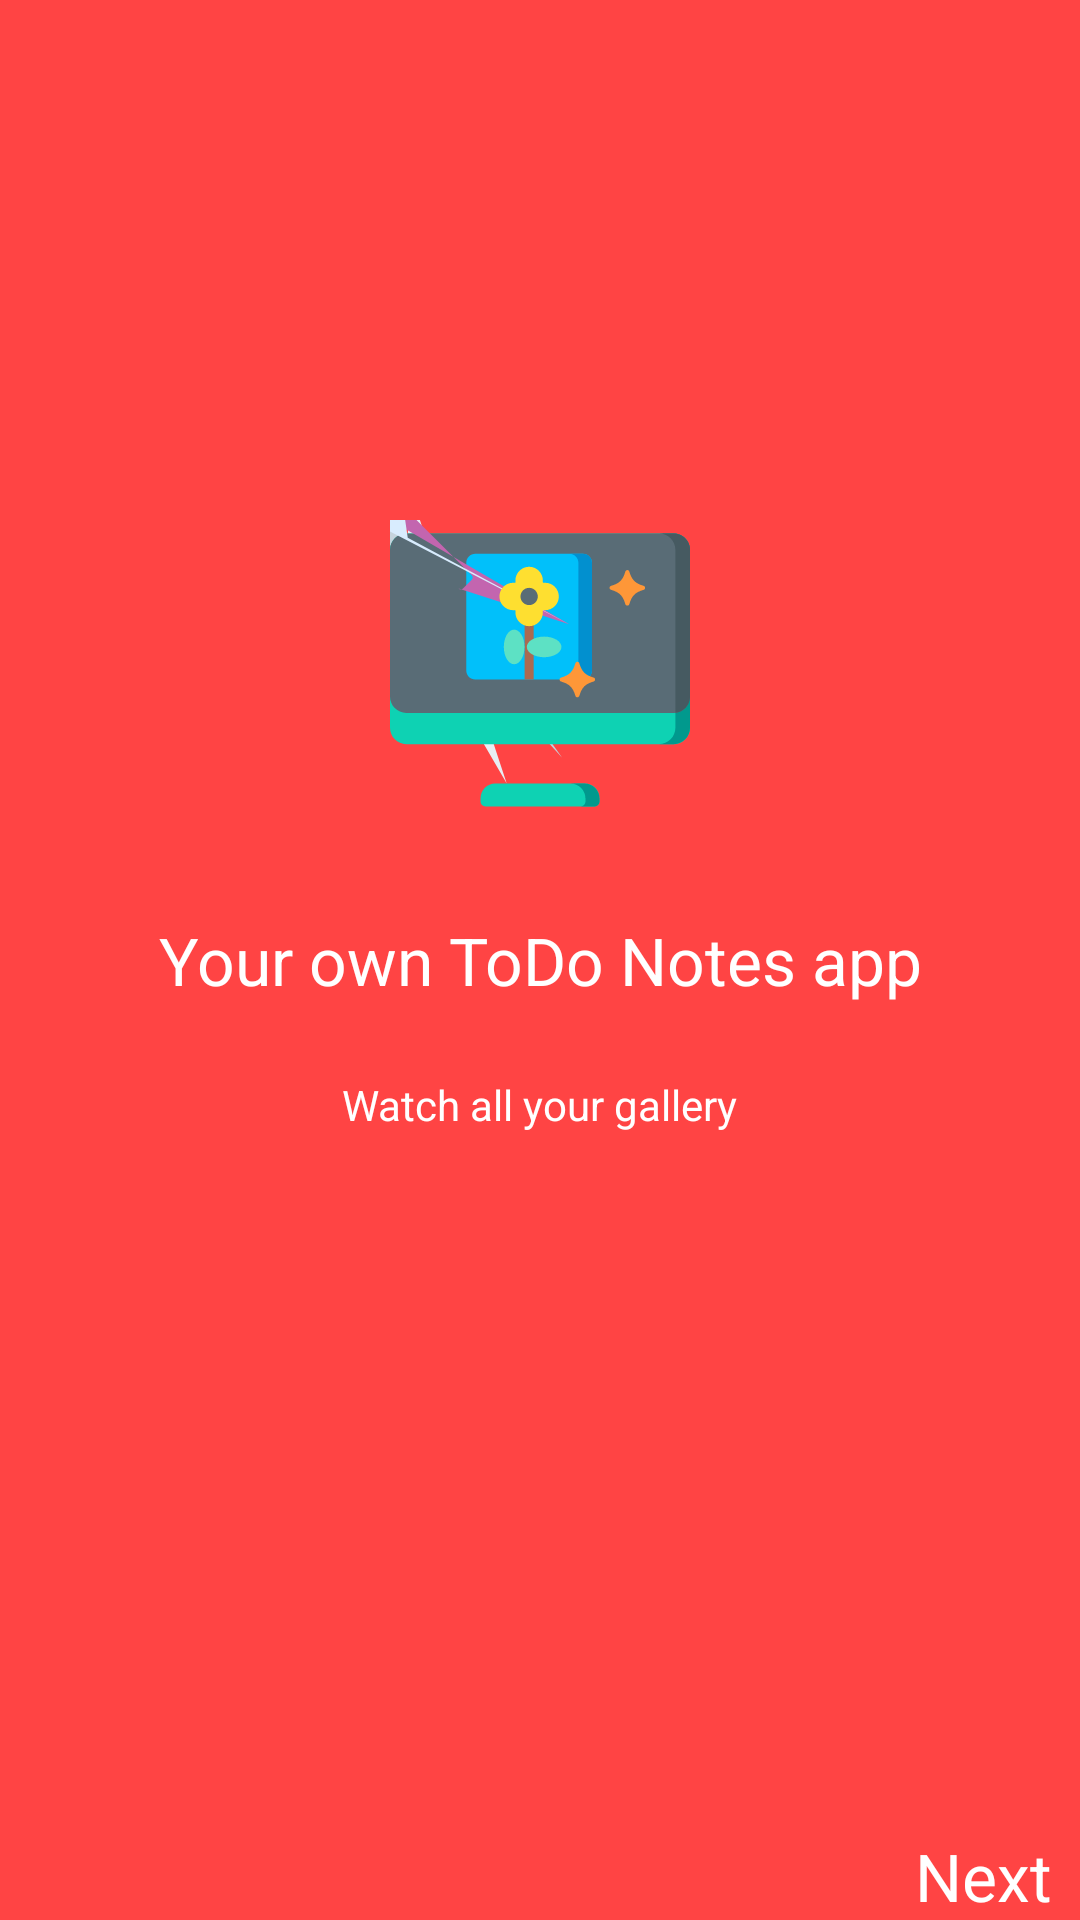

Where to tap for icons on this 1080w x 1920h app screen, as point (x, y):
gallery: point (540, 663)
